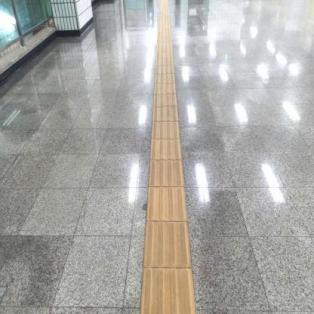Podoctatil: (140, 0, 198, 313)
